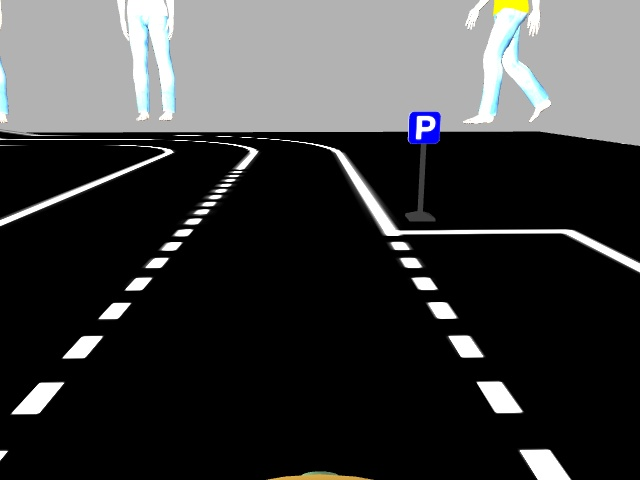Parking: (405, 109, 442, 145)
